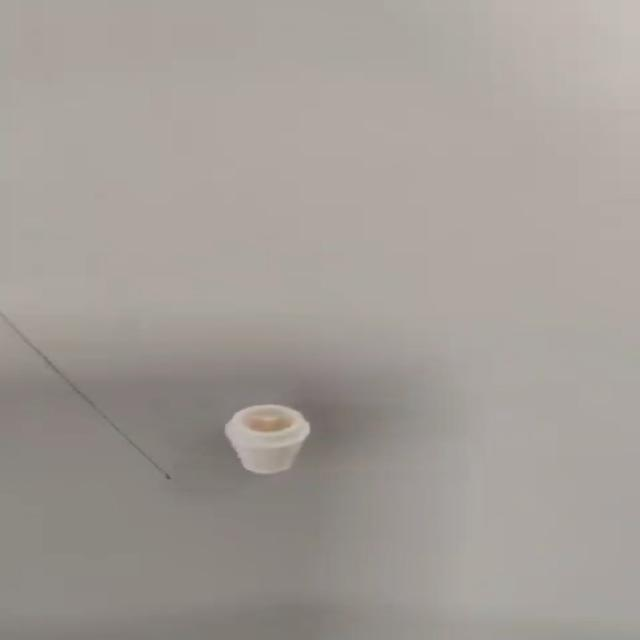Z1x1x1: (223, 403, 315, 477)
